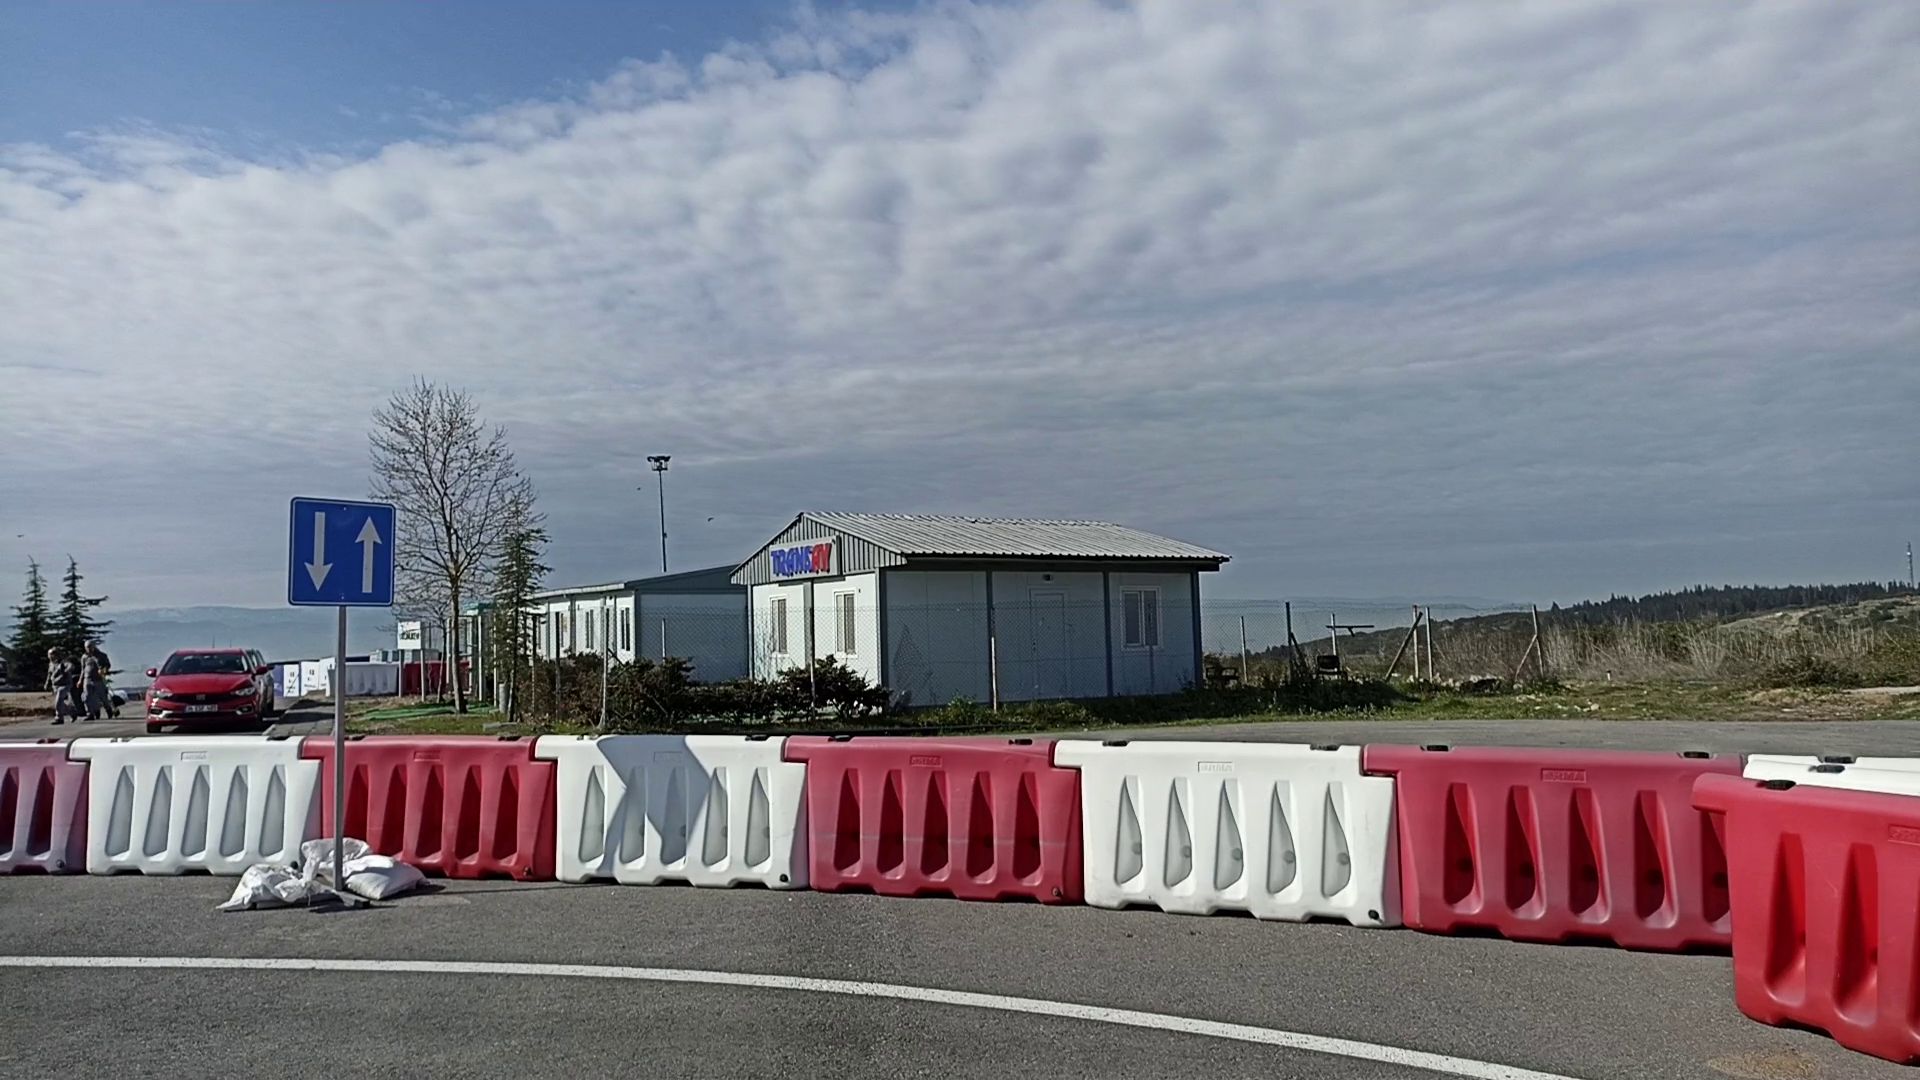oneway: (286, 495, 398, 609)
